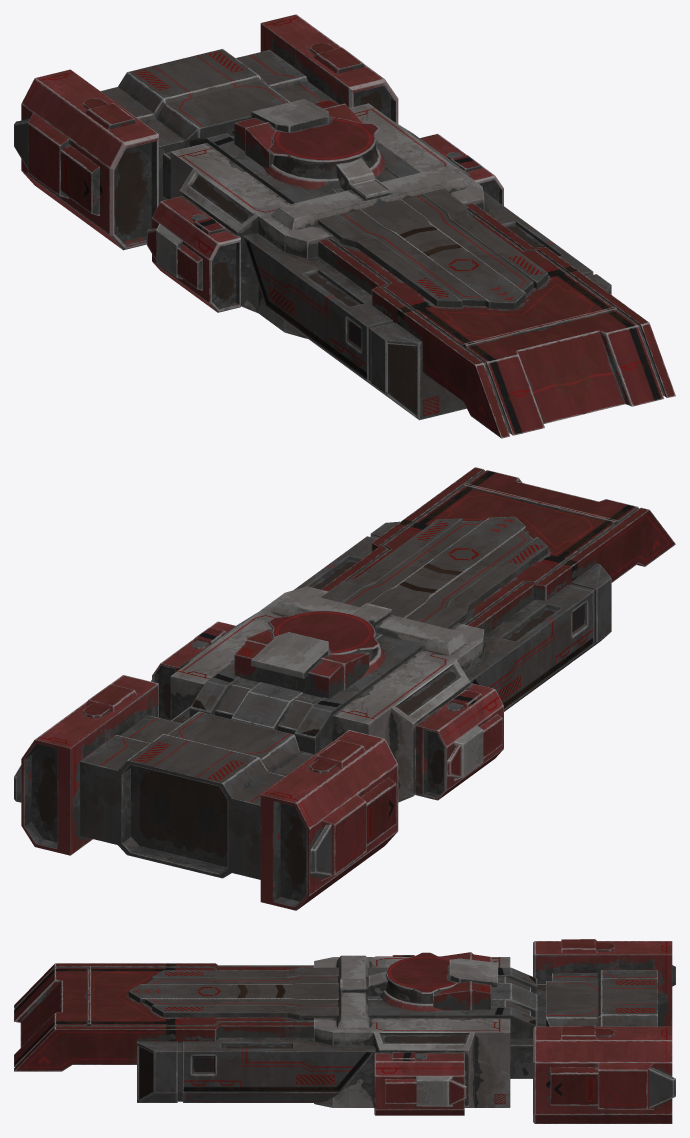
Rendered from imperial-red.glb.
3 renders of one model, top to bottom at view 1: azimuth 30°, elevation 25°; view 2: azimuth 150°, elevation 25°; view 3: azimuth 270°, elevation 25°, orthographic. The views are drawn at different scales.
Visible parts, largest first — view 1: Imperial; view 2: Imperial; view 3: Imperial.
Boxes of the visible parts, x1,y1,x2,y2 form: Imperial: (14, 14, 675, 438); Imperial: (14, 467, 675, 910); Imperial: (14, 939, 675, 1123).
Bounding box in the file's own units: 7.73 × 3.3 × 18.55.
Materials: 1 (1 with a texture image).
